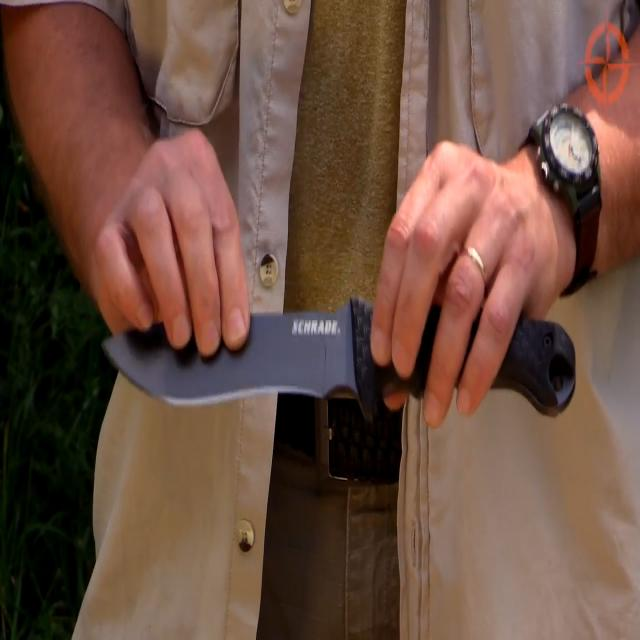knife: (94, 299, 580, 431)
